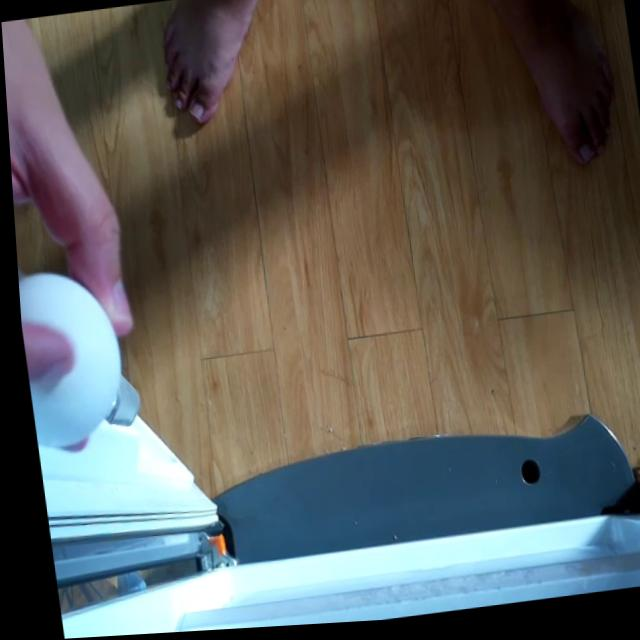egg: (14, 263, 124, 451)
